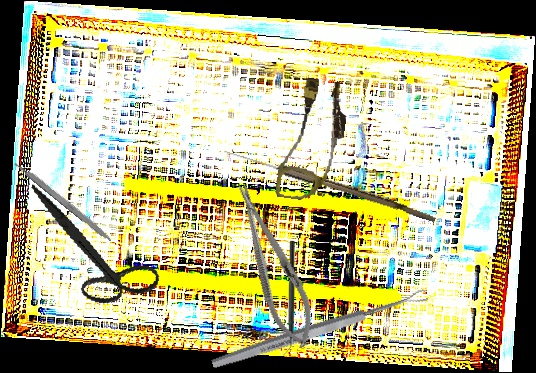Cannula: (274, 75, 352, 205)
Chopper: (282, 240, 295, 357)
Iris Scissors: (8, 183, 174, 317)
Needle Holder: (223, 178, 325, 354)
Scalpel Handle: (13, 159, 114, 243)
Surgical Spoon: (210, 287, 429, 372), (222, 146, 438, 223)
